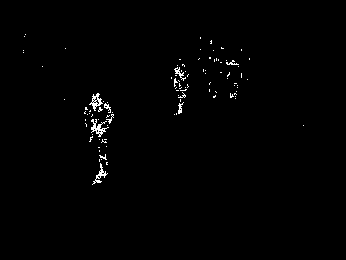person: (82, 91, 114, 188), (171, 58, 189, 116)
